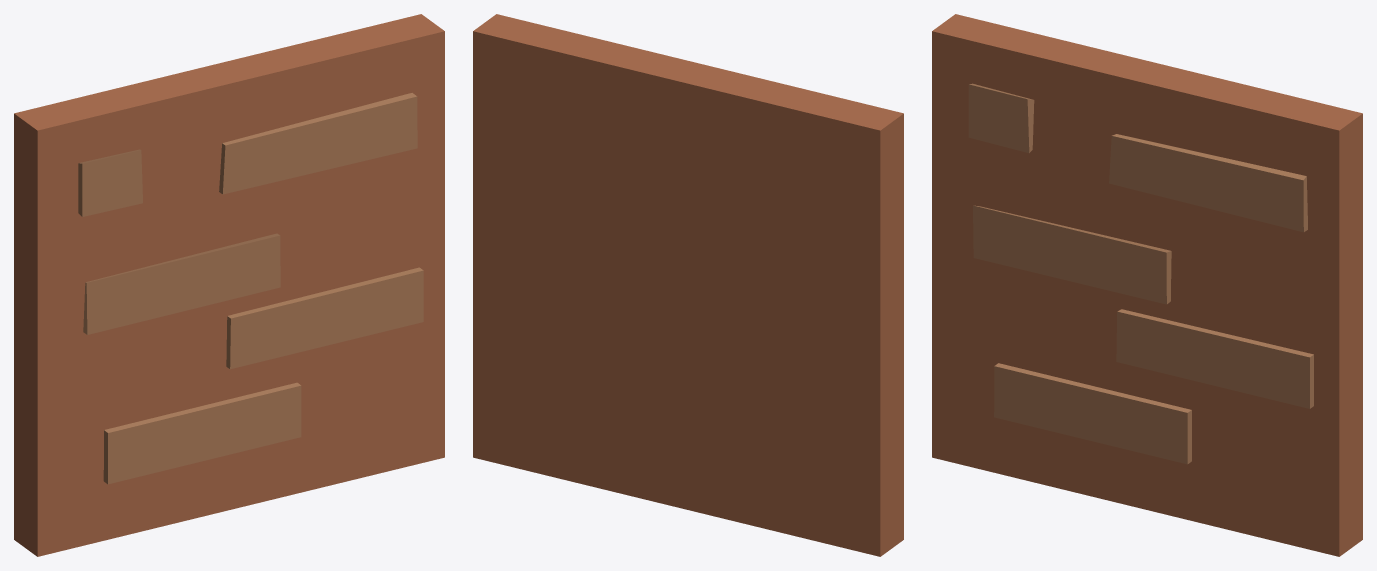
The model's file is BrickV3HalfWallSmall.fbx.
3 renders of one model, left to right at view 1: azimuth 30°, elevation 25°; view 2: azimuth 150°, elevation 25°; view 3: azimuth 330°, elevation 25°, orthographic.
Parts seen in each view (by area): view 1: BrickV3HalfWallSmall; view 2: BrickV3HalfWallSmall; view 3: BrickV3HalfWallSmall.
Boxes of the visible parts, <box> form: BrickV3HalfWallSmall: <box>14,14,444,556</box>; BrickV3HalfWallSmall: <box>473,14,903,556</box>; BrickV3HalfWallSmall: <box>932,14,1362,556</box>.
Size of the model in its own units: 100 by 100 by 11.75.
